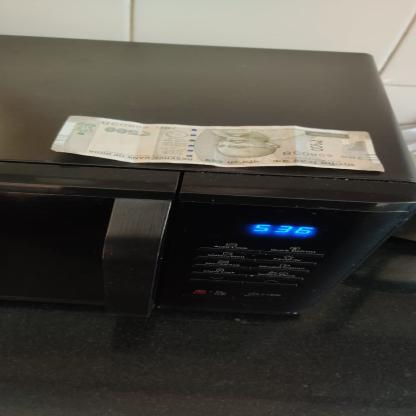New500Front: (48, 116, 392, 172)
